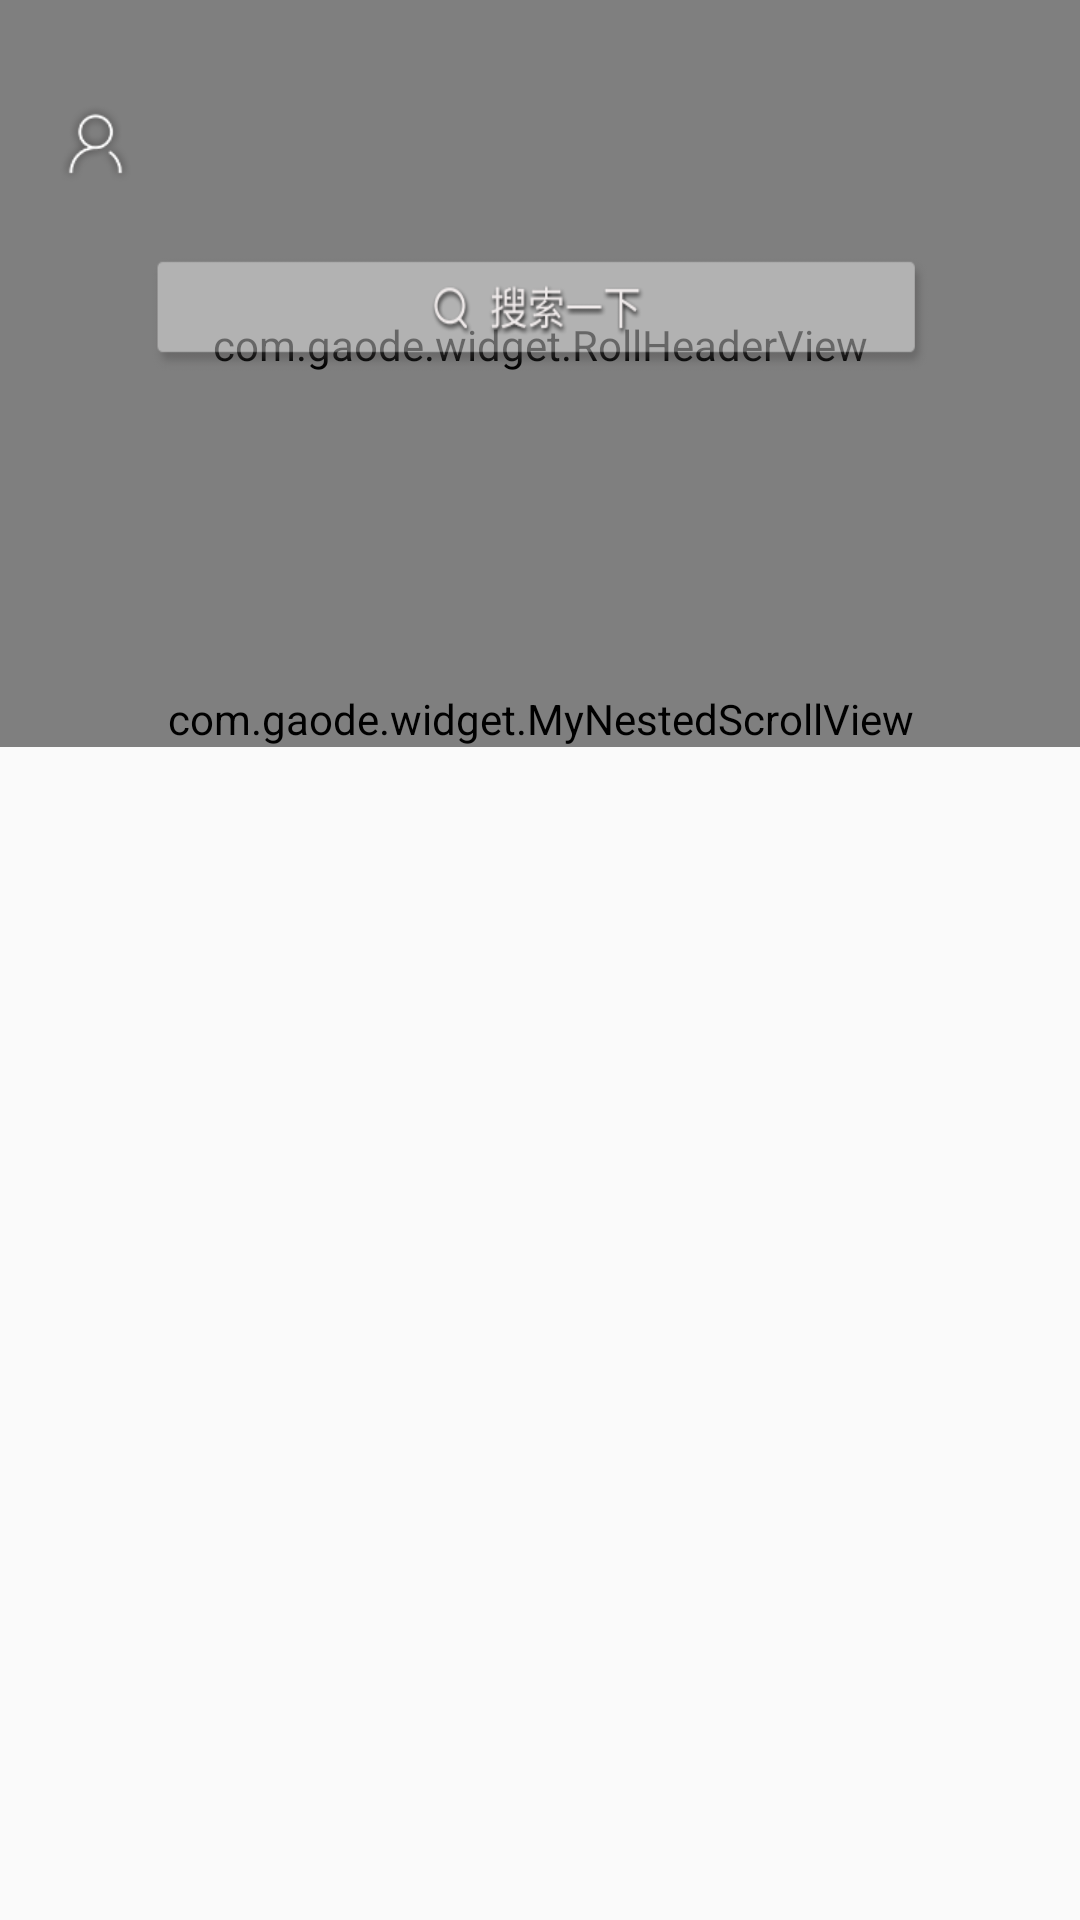

Screen size 1080px×1920px. Icon name, then its center in pixels as point (x, y):
gerenzhongxin: point (95, 143)
